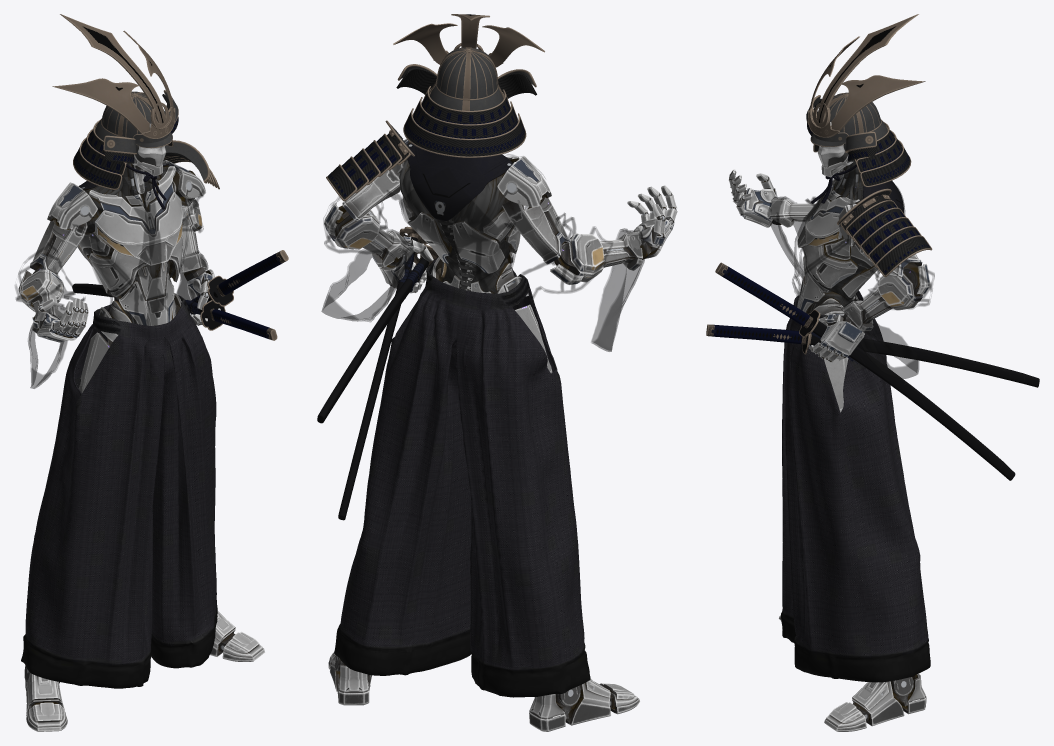
The model's file is cyber-samurai.glb.
The picture shows the model from 3 angles, left to right: view 1: azimuth 30°, elevation 25°; view 2: azimuth 150°, elevation 25°; view 3: azimuth 270°, elevation 25°; orthographic projection. The views are drawn at different scales.
Parts seen in each view (by area): view 1: Object_2, Object_5, Object_17, Object_3, Object_13, Object_16, Object_19, Object_18, Object_7, Object_15, Object_14; view 2: Object_2, Object_17, Object_3, Object_5, Object_16, Object_13, Object_19, Object_18, Object_14, Object_6; view 3: Object_2, Object_17, Object_19, Object_5, Object_3, Object_16, Object_13, Object_18, Object_7, Object_15, Object_14.
Boxes of the visible parts, box(x1,y1,x2,y2) form: Object_2: box(21, 295, 217, 688); Object_5: box(55, 163, 195, 345); Object_17: box(52, 14, 178, 189); Object_3: box(15, 167, 208, 388); Object_13: box(18, 160, 264, 731); Object_16: box(21, 196, 214, 683); Object_19: box(72, 250, 288, 340); Object_18: box(126, 140, 219, 209); Object_7: box(99, 146, 181, 341); Object_15: box(55, 332, 110, 393); Object_14: box(32, 264, 212, 328); Object_2: box(334, 257, 590, 697); Object_17: box(393, 14, 544, 157); Object_3: box(321, 154, 646, 351); Object_5: box(399, 143, 523, 307); Object_16: box(328, 165, 671, 718); Object_13: box(324, 139, 672, 731); Object_19: box(317, 226, 438, 520); Object_18: box(326, 120, 414, 201); Object_14: box(335, 204, 666, 274); Object_6: box(439, 217, 475, 290); Object_2: box(781, 290, 930, 682); Object_17: box(806, 14, 925, 187); Object_19: box(706, 262, 1039, 480); Object_5: box(797, 161, 903, 314); Object_3: box(767, 169, 934, 378); Object_16: box(743, 198, 923, 706); Object_13: box(743, 171, 930, 731); Object_18: box(811, 164, 932, 277); Object_7: box(817, 144, 858, 315); Object_15: box(743, 214, 848, 412); Object_14: box(756, 173, 919, 326).
Size of the model in its own units: 0.7936 by 1.85 by 0.8738.
Materials: 5 (5 with a texture image).
